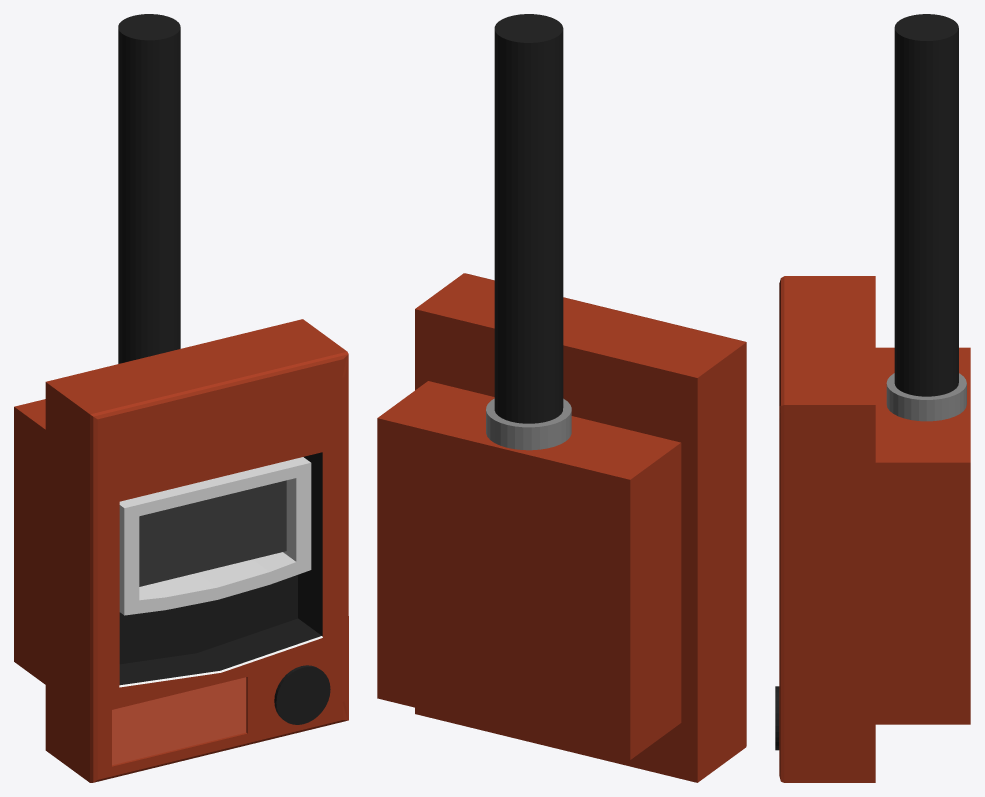
The model's file is Interruptor_MODELO.fbx.
The picture shows the model from 3 angles, left to right: view 1: azimuth 30°, elevation 25°; view 2: azimuth 150°, elevation 25°; view 3: azimuth 270°, elevation 25°; orthographic projection. The views are drawn at different scales.
Parts seen in each view (by area): view 1: base, Manija; view 2: base; view 3: base.
Part boxes in pixels (box(x1,y1,x2,y2)): base: box(14, 14, 348, 782); Manija: box(119, 457, 311, 615); base: box(377, 14, 746, 782); base: box(775, 14, 970, 782).
Bounding box in the file's own units: 13.49 × 33.74 × 8.65.
5 materials, 5 textured.
